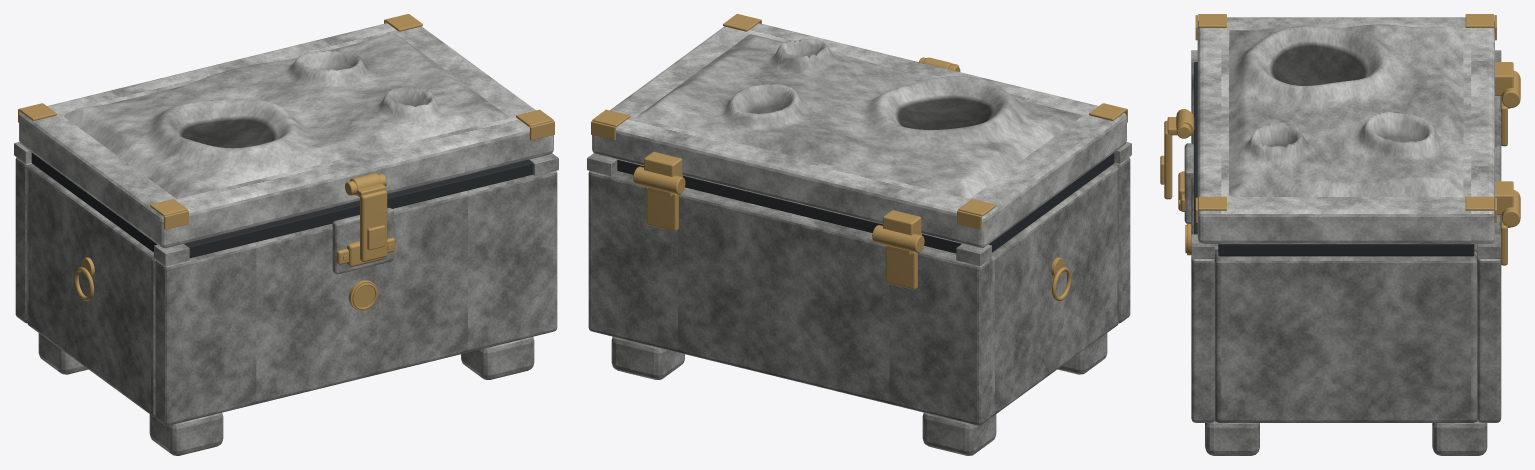
Rendered from the-moon.glb.
3 views of the same model, side by side, from view 1: azimuth 30°, elevation 25°; view 2: azimuth 150°, elevation 25°; view 3: azimuth 270°, elevation 25° (orthographic). The views are drawn at different scales.
Parts seen in each view (by area): view 1: Regolith / wall, Terrain / impact highlands, Lid / polished slab, Regolith / side, Seam / long, Regolith / foot, Regolith / foot.002, Regolith / wall.001, Latch / lifting hasp, Regolith / clasp seat, Seam / side, Regolith / foot.001 (+2 smaller); view 2: Regolith / wall.001, Terrain / impact highlands, Lid / polished slab, Regolith / side, Seam / long.001, Regolith / foot.001, Regolith / foot.003, Regolith / wall, Seam / side, Hinge / fixed mount, Hinge / fixed mount.001, Regolith / foot (+5 smaller); view 3: Regolith / side.001, Terrain / impact highlands, Lid / polished slab, Regolith / wall.001, Regolith / wall, Seam / side.001, Regolith / foot.003, Regolith / foot.002, Regolith / clasp seat, Seam / long, Latch / lifting hasp, Hinge / moving leaf (+9 smaller).
Part boxes in pixels (x1,y1,x2,y2): Regolith / wall: (155,171,557,425); Terrain / impact highlands: (64,33,508,198); Lid / polished slab: (19,23,553,248); Regolith / side: (27,164,156,417); Seam / long: (184,159,533,258); Regolith / foot: (149,412,223,455); Regolith / foot.002: (461,337,534,379); Regolith / wall.001: (15,157,31,323); Latch / lifting hasp: (360,190,387,261); Regolith / clasp seat: (332,207,393,274); Seam / side: (31,152,157,252); Regolith / foot.001: (38,333,88,374); Regolith / wall.001: (588,171,990,425); Terrain / impact highlands: (635,34,1082,198); Lid / polished slab: (592,23,1126,248); Regolith / side: (989,164,1118,417); Seam / long.001: (617,159,961,253); Regolith / foot.001: (922,412,996,455); Regolith / foot.003: (611,337,684,379); Regolith / wall: (1114,157,1130,323); Seam / side: (988,152,1114,252); Hinge / fixed mount: (885,245,917,289); Hinge / fixed mount.001: (646,187,678,231); Regolith / foot: (1057,333,1107,374); Regolith / side.001: (1215,251,1477,422); Terrain / impact highlands: (1229,24,1463,196); Lid / polished slab: (1197,17,1494,243); Regolith / wall.001: (1477,95,1501,422); Regolith / wall: (1191,74,1214,422); Seam / side.001: (1218,244,1474,256); Regolith / foot.003: (1432,421,1487,455); Regolith / foot.002: (1205,421,1259,455); Regolith / clasp seat: (1184,143,1193,223); Seam / long: (1194,62,1197,234); Latch / lifting hasp: (1164,120,1172,199); Hinge / moving leaf: (1495,62,1513,95).
Bounding box in the file's own units: 3.79 × 2.48 × 2.88.
5 materials, 3 textured.
